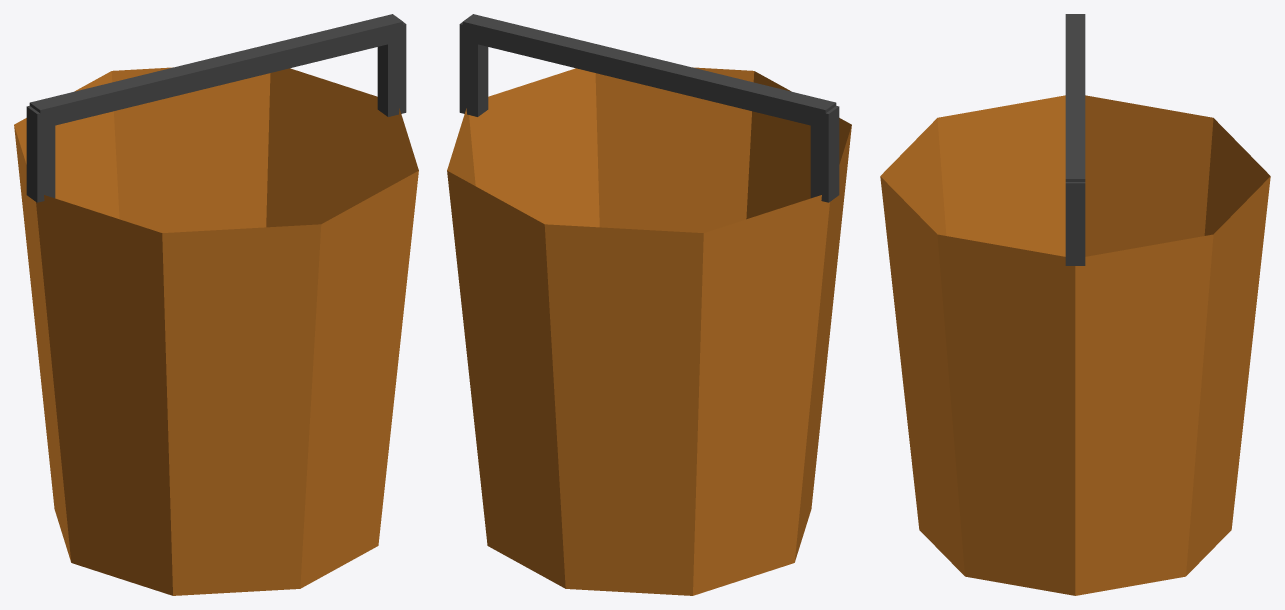
Rendered from Prop_Bucket.fbx.
The picture shows the model from 3 angles, left to right: view 1: azimuth 30°, elevation 25°; view 2: azimuth 150°, elevation 25°; view 3: azimuth 270°, elevation 25°; orthographic projection. The views are drawn at different scales.
Parts seen in each view (by area): view 1: Prop_Bucket; view 2: Prop_Bucket; view 3: Prop_Bucket.
Part boxes in pixels (x1,y1,x2,y2): Prop_Bucket: (14,14,418,595); Prop_Bucket: (447,14,851,595); Prop_Bucket: (880,14,1270,595).
Size of the model in its own units: 0.305 by 0.3675 by 0.3.
